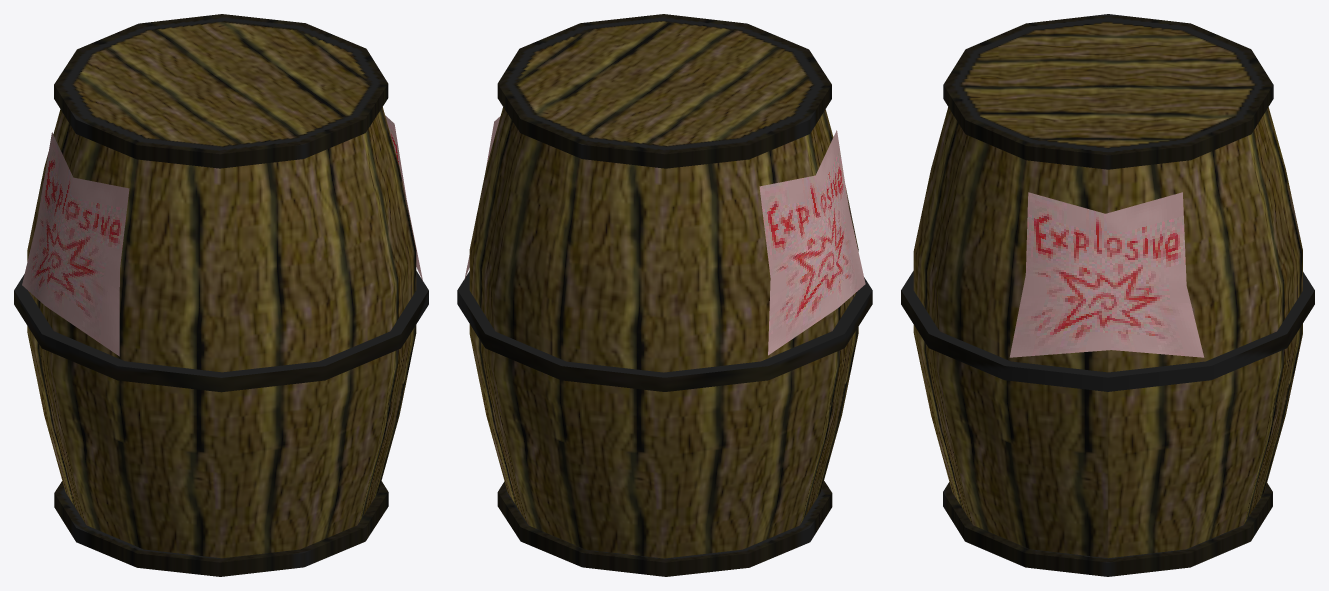
File: explosivebarrel.obj
3 renders of one model, left to right at view 1: azimuth 30°, elevation 25°; view 2: azimuth 150°, elevation 25°; view 3: azimuth 270°, elevation 25°, orthographic.
Visible parts, largest first — view 1: Cylinder02, Duplicate12, Duplicate01, Cylinder03, Duplicate13; view 2: Cylinder02, Duplicate12, Duplicate01, Cylinder03, Duplicate13; view 3: Cylinder02, Duplicate12, Duplicate02, Cylinder03, Duplicate13.
Boxes of the visible parts, bbox=[...] form: Cylinder02: bbox=[27, 107, 416, 558]; Duplicate12: bbox=[54, 14, 388, 168]; Duplicate01: bbox=[22, 132, 129, 356]; Cylinder03: bbox=[14, 271, 428, 392]; Duplicate13: bbox=[54, 481, 388, 576]; Cylinder02: bbox=[469, 107, 858, 558]; Duplicate12: bbox=[497, 14, 831, 168]; Duplicate01: bbox=[759, 130, 865, 355]; Cylinder03: bbox=[457, 271, 872, 391]; Duplicate13: bbox=[497, 481, 832, 576]; Cylinder02: bbox=[913, 107, 1302, 558]; Duplicate12: bbox=[943, 14, 1273, 169]; Duplicate02: bbox=[1009, 192, 1204, 357]; Cylinder03: bbox=[901, 271, 1314, 391]; Duplicate13: bbox=[943, 482, 1272, 576].
Bounding box in the file's own units: 25.1 × 28.21 × 25.09.
